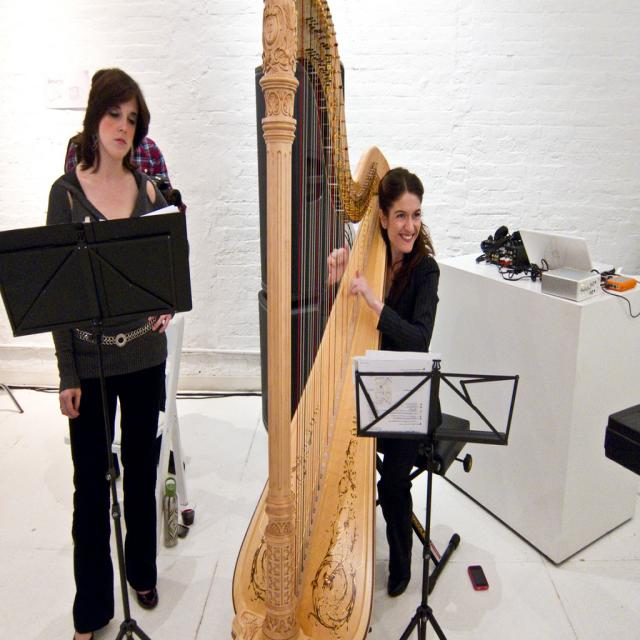harp: (226, 0, 391, 639)
